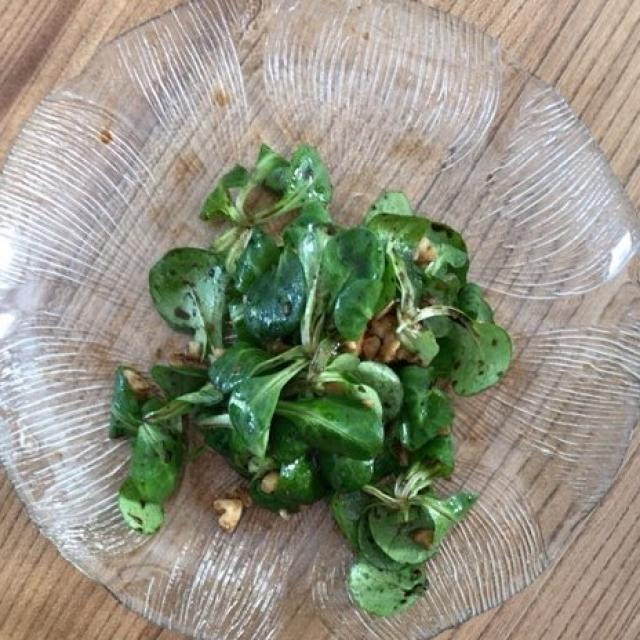salad: (121, 154, 503, 612)
